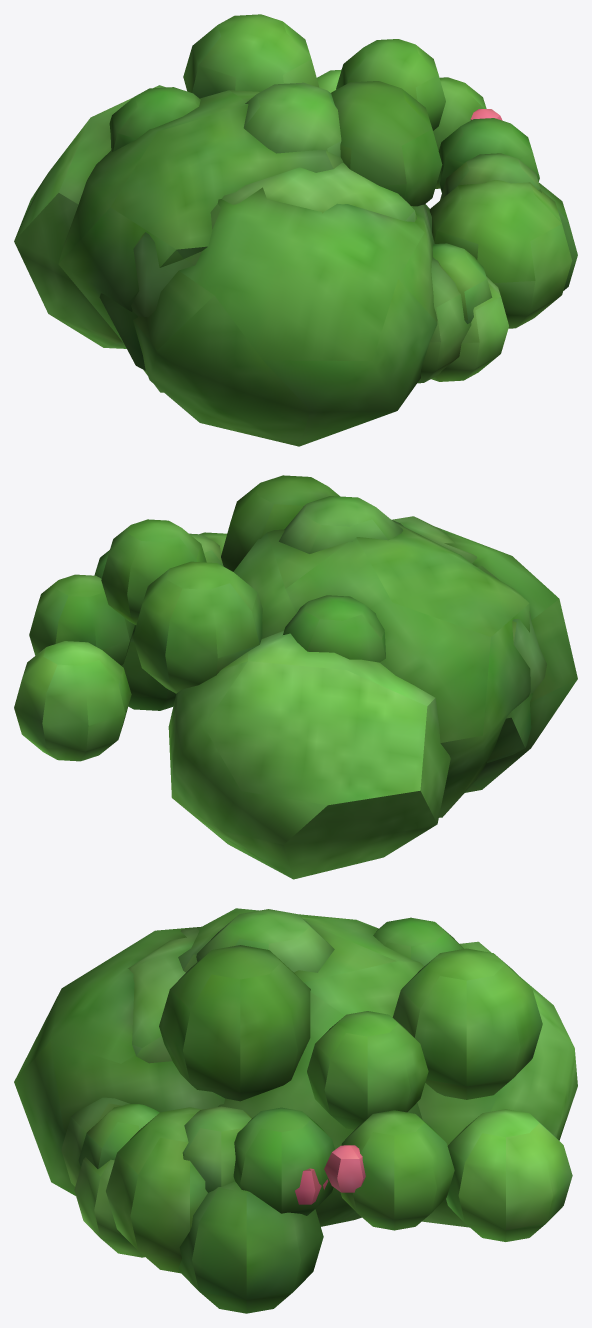
The model's file is bush_1_15.glb.
3 views of the same model, one above another, from view 1: azimuth 30°, elevation 25°; view 2: azimuth 150°, elevation 25°; view 3: azimuth 270°, elevation 25° (orthographic). The views are drawn at different scales.
Visible parts, largest first — view 1: peb; view 2: peb; view 3: peb.
Part boxes in pixels (x1=…): peb: x1=14, y1=14, x2=577, y2=446; peb: x1=14, y1=475, x2=577, y2=879; peb: x1=14, y1=908, x2=577, y2=1313.
Size of the model in its own units: 2.24 by 1.44 by 2.24.
Materials: 1 (1 with a texture image).
